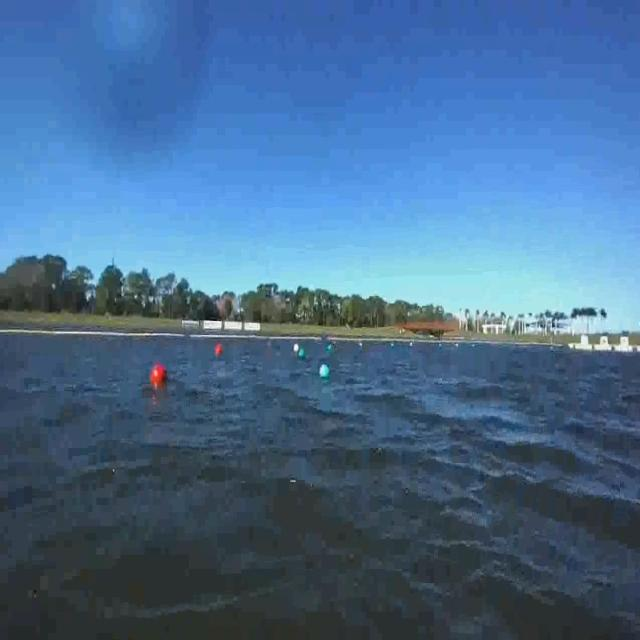green-buoy: (318, 362, 330, 379)
red-buoy: (146, 362, 169, 392)
